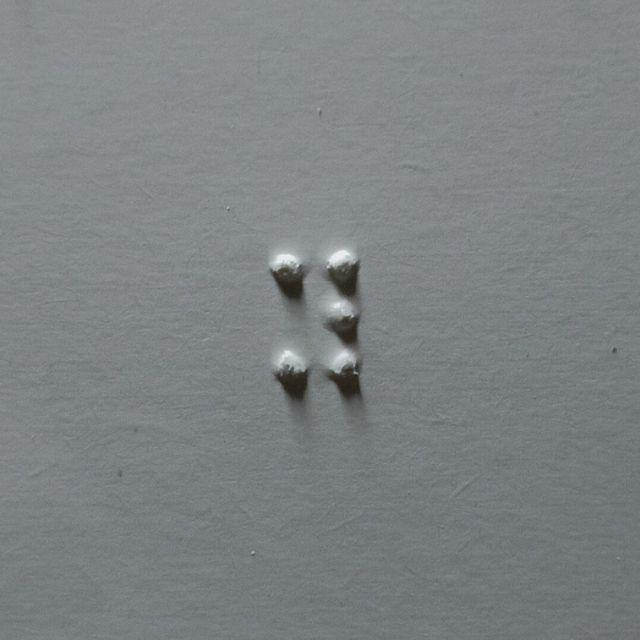y: (266, 247, 364, 392)
